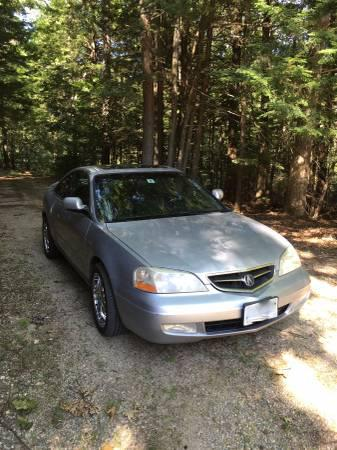acura: (39, 165, 324, 370)
